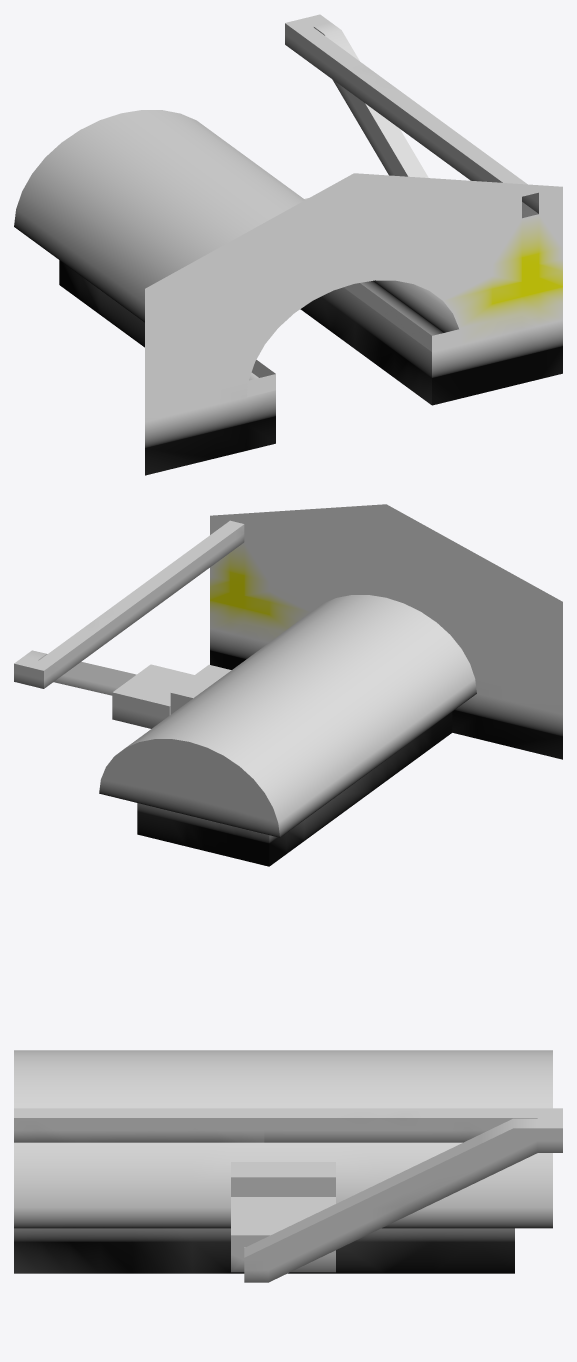
The model's file is mainScene.fbx.
3 views of the same model, one above another, from view 1: azimuth 30°, elevation 25°; view 2: azimuth 150°, elevation 25°; view 3: azimuth 270°, elevation 25° (orthographic). The views are drawn at different scales.
Parts seen in each view (by area): view 1: mainMesh.001, mainMesh, mainMesh.002, mainMesh.003, mainMesh.005, mainMesh.008; view 2: mainMesh, mainMesh.001, mainMesh.002, mainMesh.004, mainMesh.005, mainMesh.003; view 3: mainMesh, mainMesh.003, mainMesh.005, mainMesh.002, mainMesh.004.
Part boxes in pixels (<box>): mainMesh.001: <box>145,173,562,475</box>; mainMesh: <box>14,110,458,404</box>; mainMesh.002: <box>285,18,430,138</box>; mainMesh.003: <box>303,14,428,177</box>; mainMesh.005: <box>414,113,538,218</box>; mainMesh.008: <box>247,283,460,397</box>; mainMesh: <box>99,595,476,866</box>; mainMesh.001: <box>210,504,562,759</box>; mainMesh.002: <box>28,587,152,688</box>; mainMesh.004: <box>112,664,194,728</box>; mainMesh.005: <box>139,520,244,608</box>; mainMesh.003: <box>14,650,136,695</box>; mainMesh: <box>14,1050,552,1273</box>; mainMesh.003: <box>244,1118,562,1282</box>; mainMesh.005: <box>14,1108,264,1142</box>; mainMesh.002: <box>264,1108,562,1142</box>; mainMesh.004: <box>231,1197,335,1272</box>.
Bounding box in the file's own units: 10247 × 5891 × 10080.
